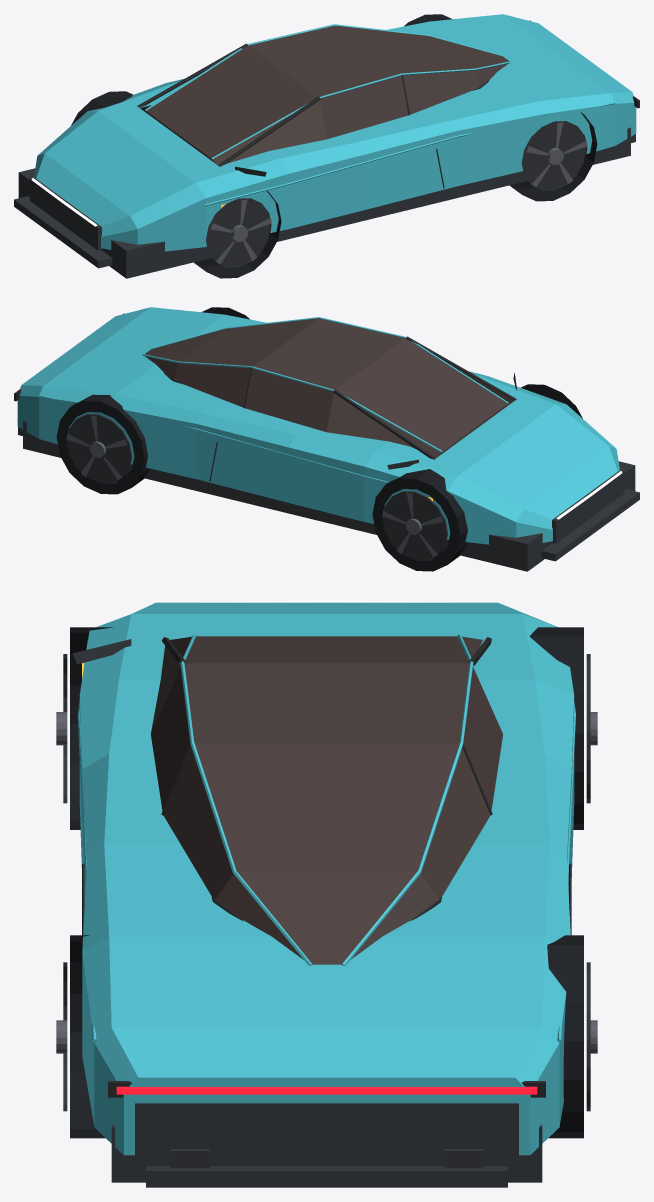
File: roadster_10_cyan.glb
The picture shows the model from 3 angles, top to bottom: view 1: azimuth 30°, elevation 25°; view 2: azimuth 150°, elevation 25°; view 3: azimuth 270°, elevation 25°; orthographic projection. The views are drawn at different scales.
Parts seen in each view (by area): view 1: Web mesh - Ano White satin.007, Smoked panoramic canopy, Web mesh - Graphite lower aero.007, Web mesh - Hub center.007, Web mesh - Tire rubber.007, Web mesh - Wheel dark alloy.007, Web mesh - Dark window trim.007; view 2: Web mesh - Ano White satin.007, Smoked panoramic canopy, Web mesh - Graphite lower aero.007, Web mesh - Tire rubber.007, Web mesh - Hub center.007, Web mesh - Wheel dark alloy.007, Web mesh - Dark window trim.007; view 3: Web mesh - Ano White satin.007, Smoked panoramic canopy, Web mesh - Graphite lower aero.007, Web mesh - Tire rubber.007, Web mesh - Hub center.007, Web mesh - Rear light red.007, Web mesh - Dark window trim.007, Web mesh - Wheel dark alloy.007.
Part boxes in pixels (x1,y1,x2,y2): Web mesh - Ano White satin.007: (34, 14, 636, 251); Smoked panoramic canopy: (140, 25, 508, 164); Web mesh - Graphite lower aero.007: (14, 127, 635, 278); Web mesh - Hub center.007: (206, 121, 587, 267); Web mesh - Tire rubber.007: (71, 14, 597, 278); Web mesh - Wheel dark alloy.007: (210, 122, 587, 264); Web mesh - Dark window trim.007: (137, 20, 639, 166); Web mesh - Ano White satin.007: (17, 307, 619, 544); Smoked panoramic canopy: (145, 318, 514, 457); Web mesh - Graphite lower aero.007: (18, 373, 639, 571); Web mesh - Tire rubber.007: (56, 307, 582, 571); Web mesh - Hub center.007: (66, 395, 556, 560); Web mesh - Wheel dark alloy.007: (66, 395, 544, 557); Web mesh - Dark window trim.007: (14, 313, 516, 459); Web mesh - Ano White satin.007: (77, 602, 575, 1155); Smoked panoramic canopy: (150, 636, 503, 964); Web mesh - Graphite lower aero.007: (72, 639, 571, 1187); Web mesh - Tire rubber.007: (70, 627, 583, 1138); Web mesh - Hub center.007: (63, 654, 590, 1167); Web mesh - Rear light red.007: (116, 1086, 537, 1094); Web mesh - Dark window trim.007: (108, 637, 545, 1097); Web mesh - Wheel dark alloy.007: (56, 712, 597, 1053).
Bounding box in the file's own units: 5.05 × 1.21 × 2.21.
